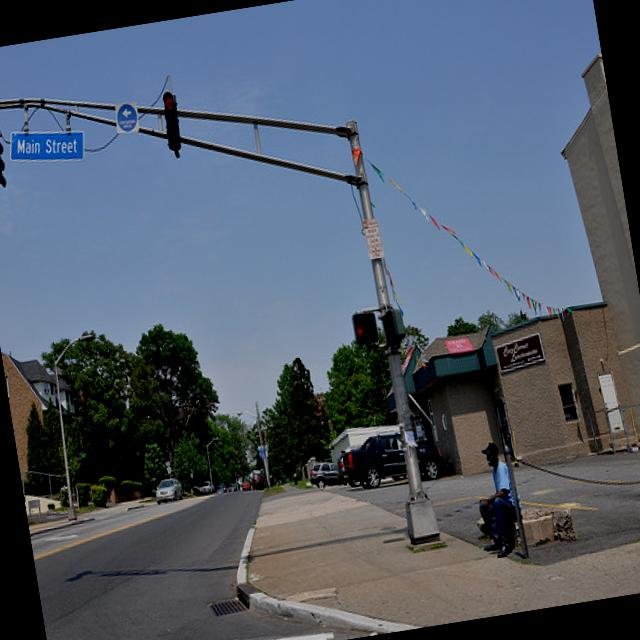Vehicle: (340, 425, 448, 493), (308, 460, 344, 490), (152, 476, 185, 506), (196, 478, 217, 496), (242, 479, 252, 490)
